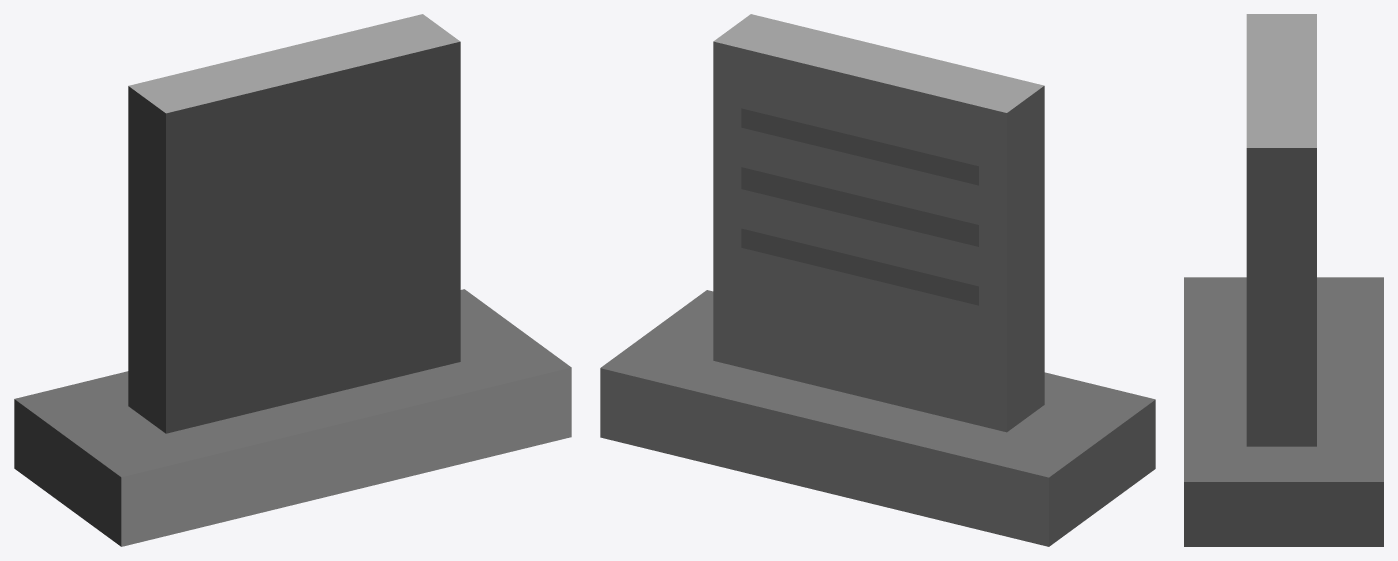
Rendered from grave_medium_mesh.fbx.
The picture shows the model from 3 angles, left to right: view 1: azimuth 30°, elevation 25°; view 2: azimuth 150°, elevation 25°; view 3: azimuth 270°, elevation 25°; orthographic projection. The views are drawn at different scales.
Visible parts, largest first — view 1: grave_medium_mesh; view 2: grave_medium_mesh; view 3: grave_medium_mesh.
Boxes of the visible parts, bbox=[...] form: grave_medium_mesh: bbox=[14, 14, 571, 546]; grave_medium_mesh: bbox=[600, 14, 1155, 546]; grave_medium_mesh: bbox=[1184, 14, 1383, 546].
Bounding box in the file's own units: 1.67 × 1.38 × 0.6896.
